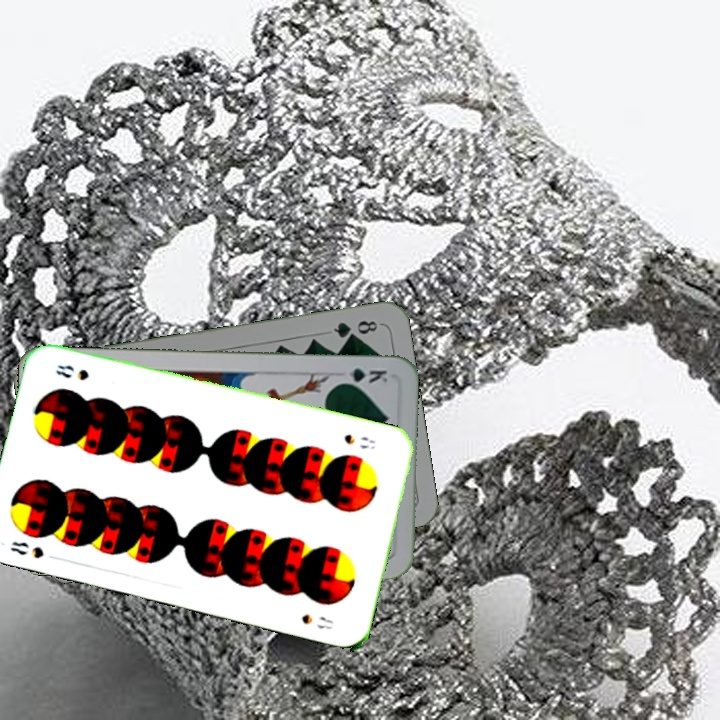G8: (329, 316, 383, 341)
GK: (333, 364, 390, 387)
S8: (6, 537, 62, 563), (340, 430, 378, 452)
